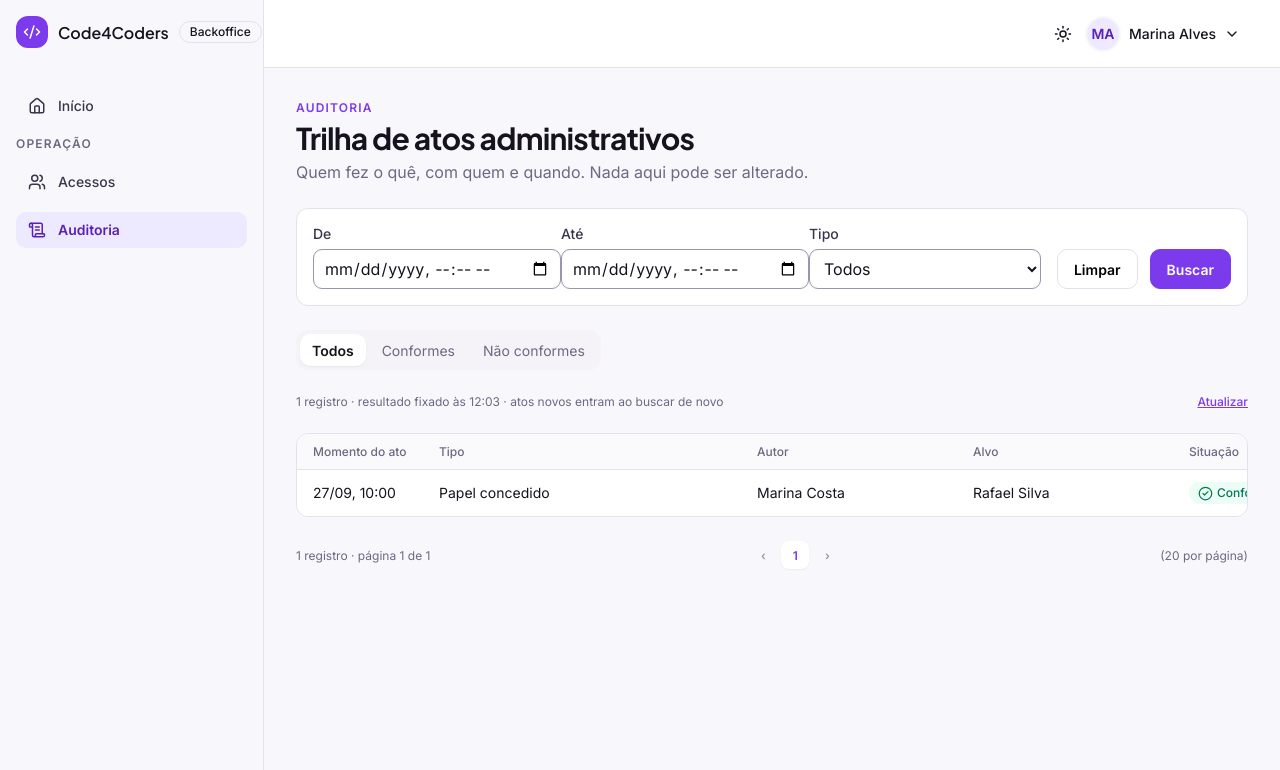
Test: AuditRecordDetail › opens a detail from the row and shows the received evidence
Click the link with aria-label "Abrir registro papel-concedido": (788, 493) [297, 470, 1279, 516]
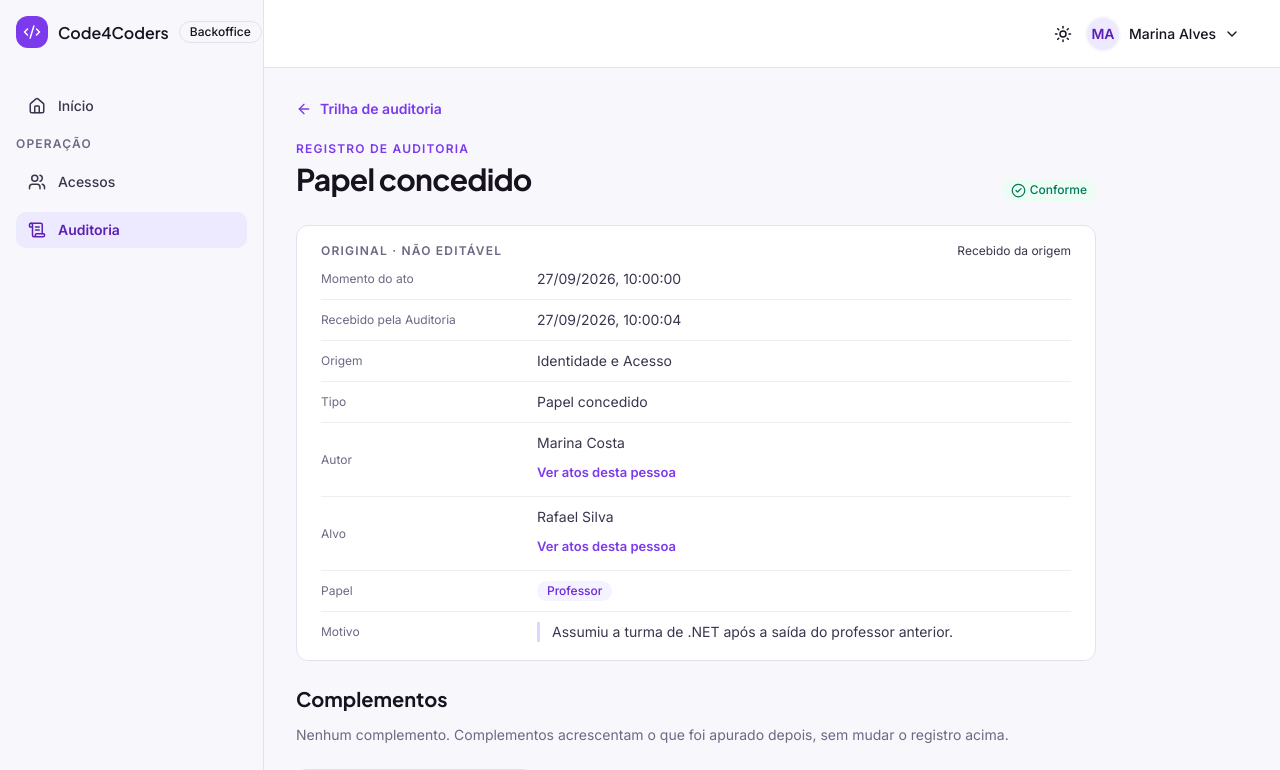
Check: the heading "Papel concedido" is shown, box [296, 161, 532, 197]
Check: the heading "Recebido da origem" is shown, box [957, 243, 1071, 259]
Check: the text "Identidade e Acesso" is shown, box [537, 352, 672, 369]
